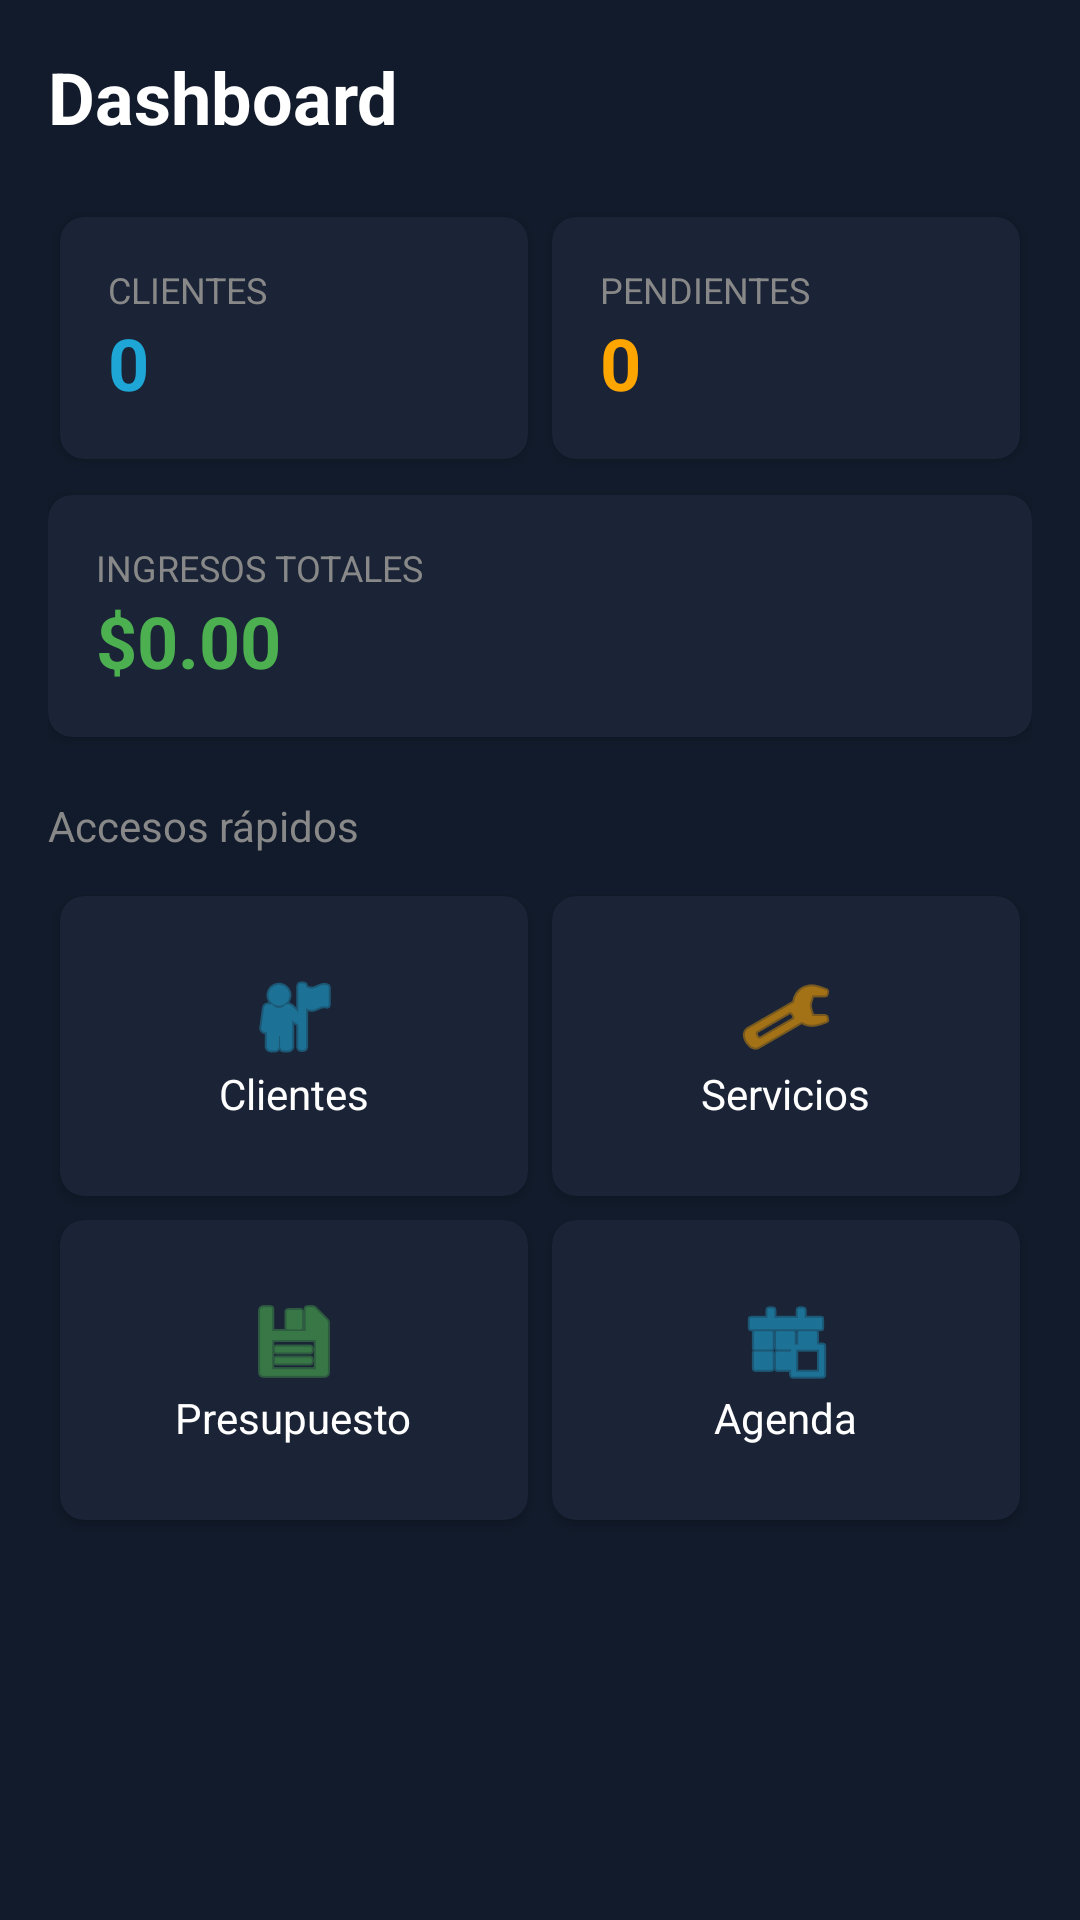

Named icons in this screenshot (1080w x 1920h) and their centers, (x=x, y=y):
manage: (x=786, y=1017)
save: (x=294, y=1341)
today: (x=787, y=1342)
